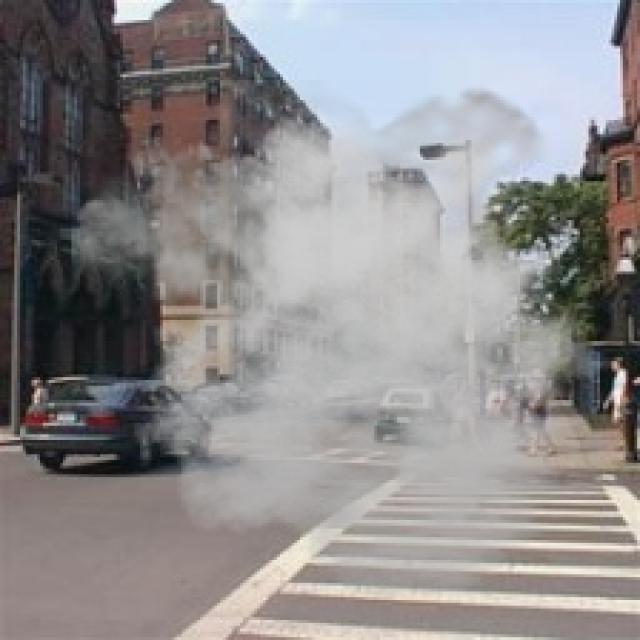smoke: (72, 80, 637, 603)
